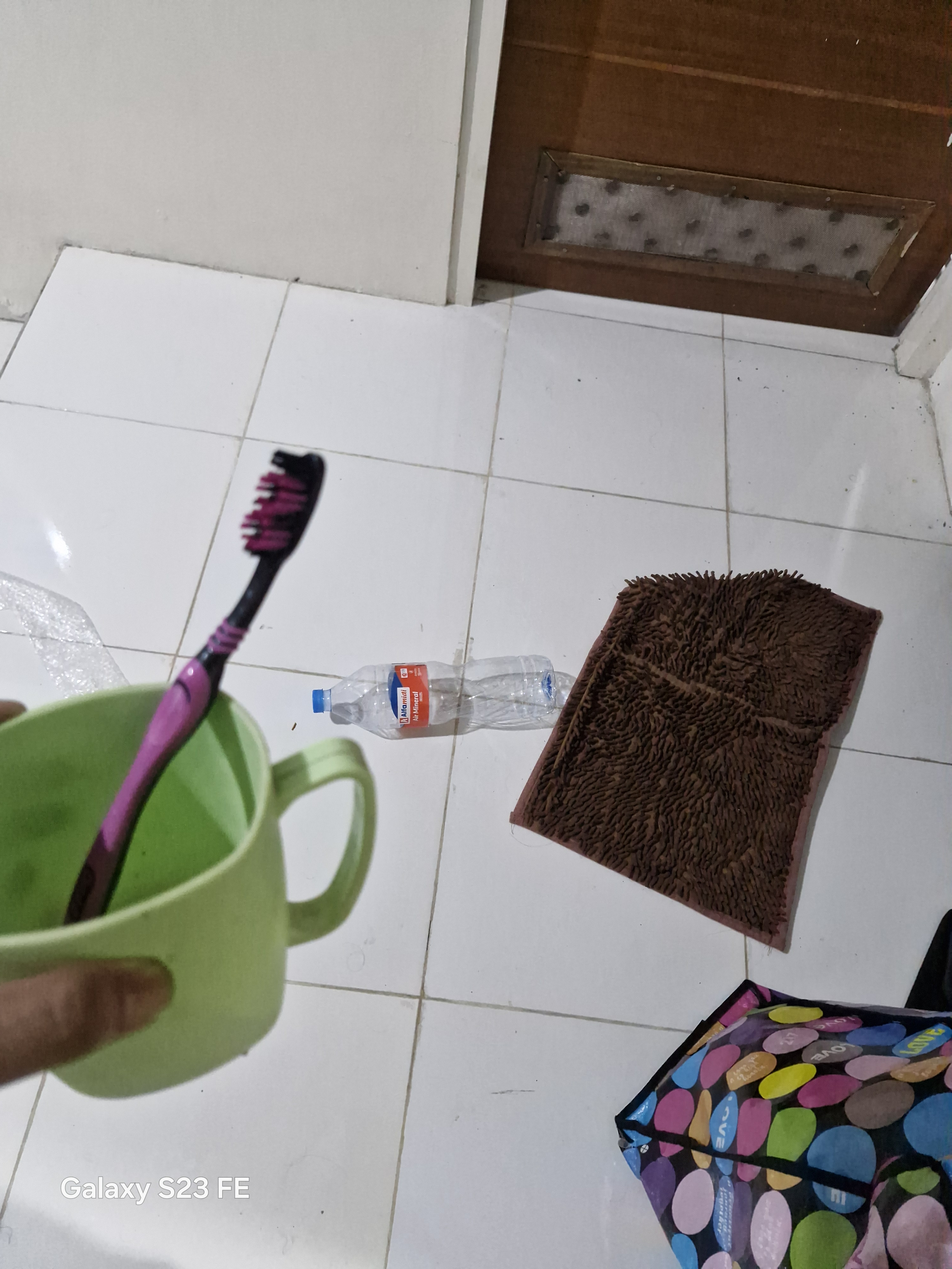bottle: (313, 655, 574, 738)
cup: (0, 685, 375, 1097)
door-stuff: (476, 0, 951, 330)
floor-other-merged: (0, 247, 951, 1268), (67, 716, 205, 924), (278, 780, 354, 901)
handbag: (616, 980, 951, 1268)
person: (0, 959, 172, 1083)
rug-merged: (512, 570, 880, 949)
toothbrush: (64, 451, 324, 924)
wall-other-merged: (0, 0, 475, 304)
